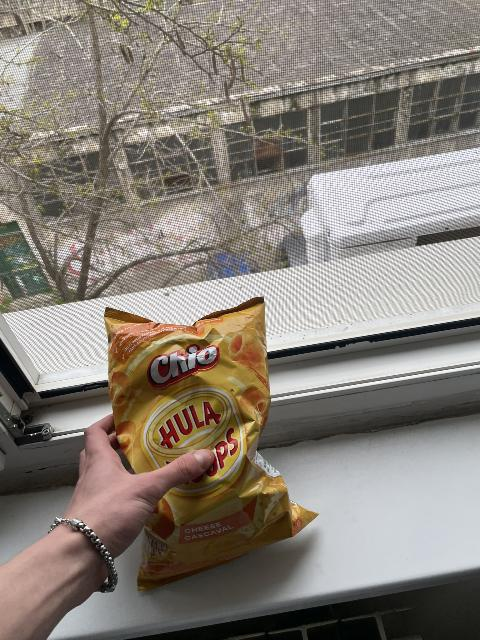Chio Hula Hoops Cheese 70g: (102, 293, 316, 590)
